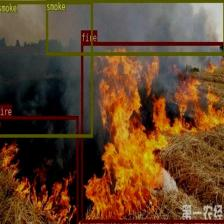fire: (80, 42, 224, 222), (0, 115, 77, 223)
smoke: (0, 1, 92, 137), (46, 0, 224, 55)
